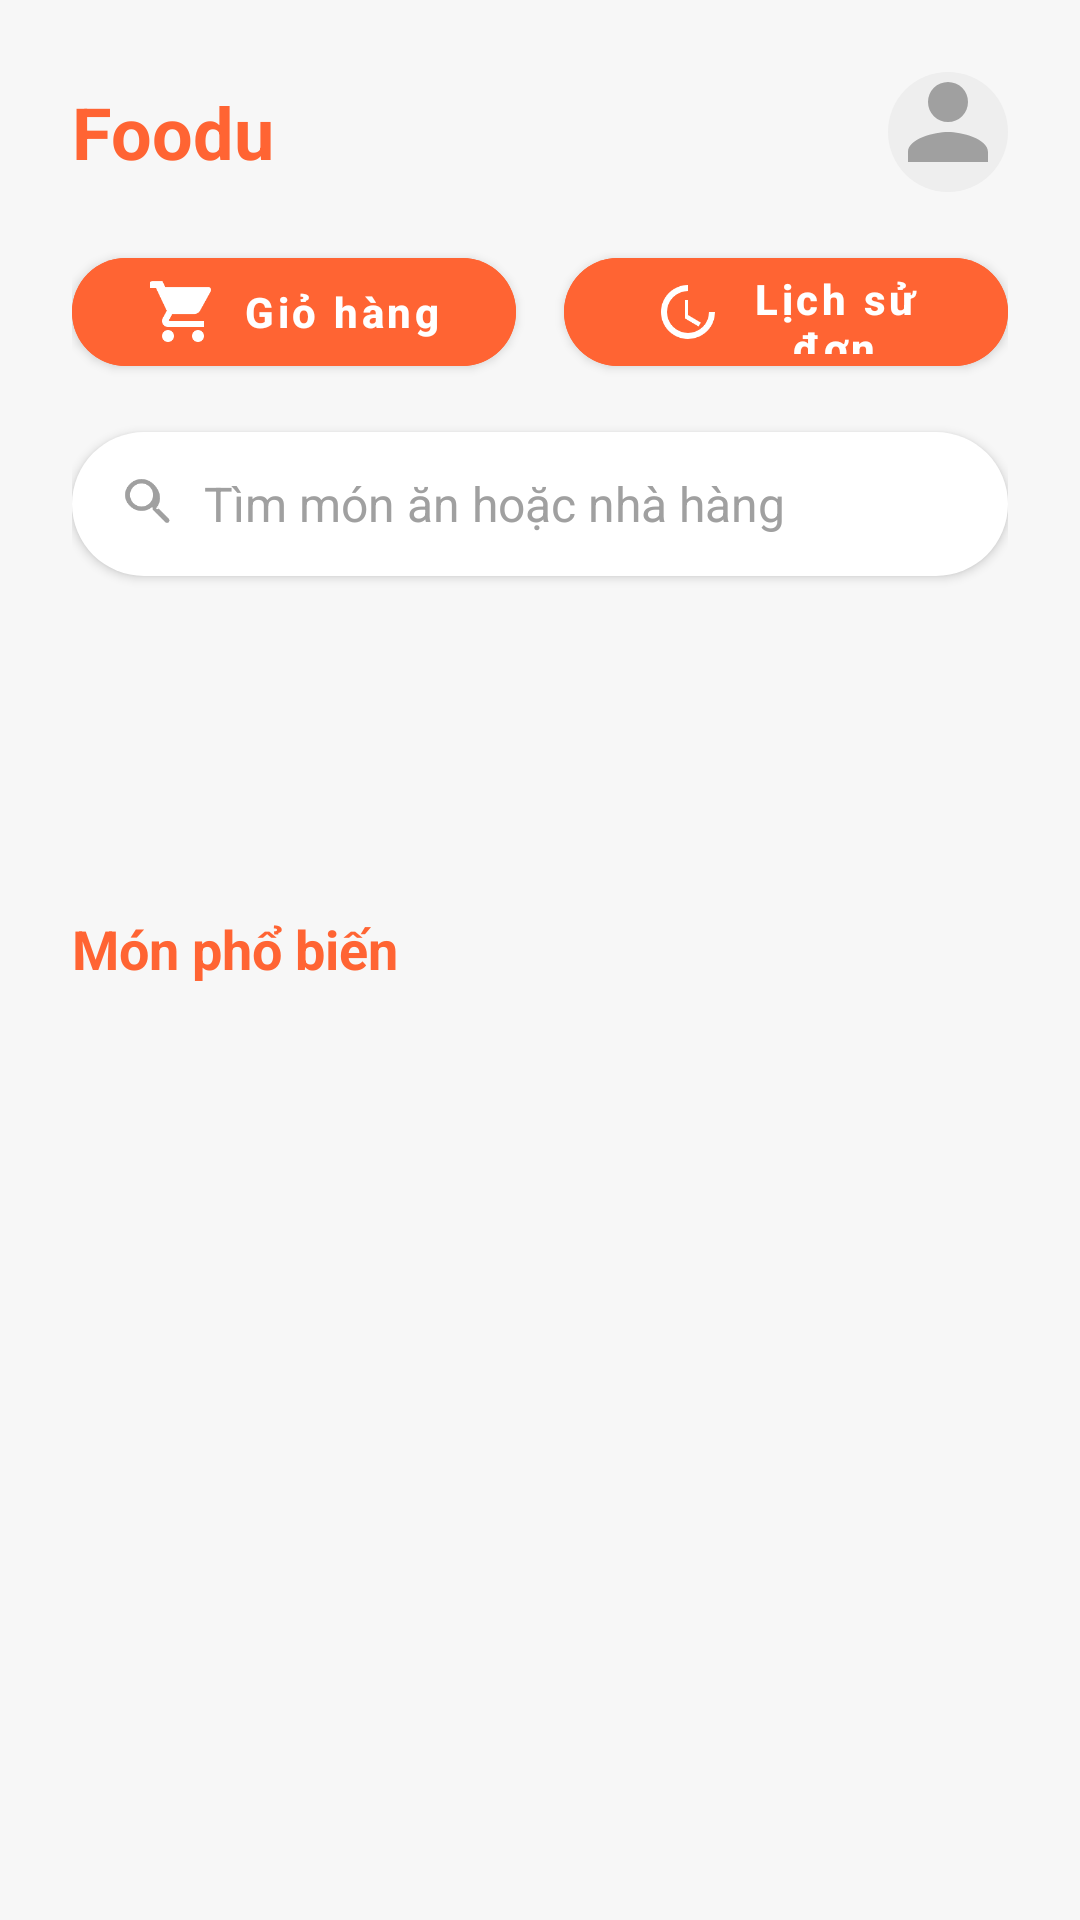

Screen size 1080 × 1920. Icon name, then its box in pixels as (x1, y1, x2, y2):
search: (125, 479, 170, 523)
